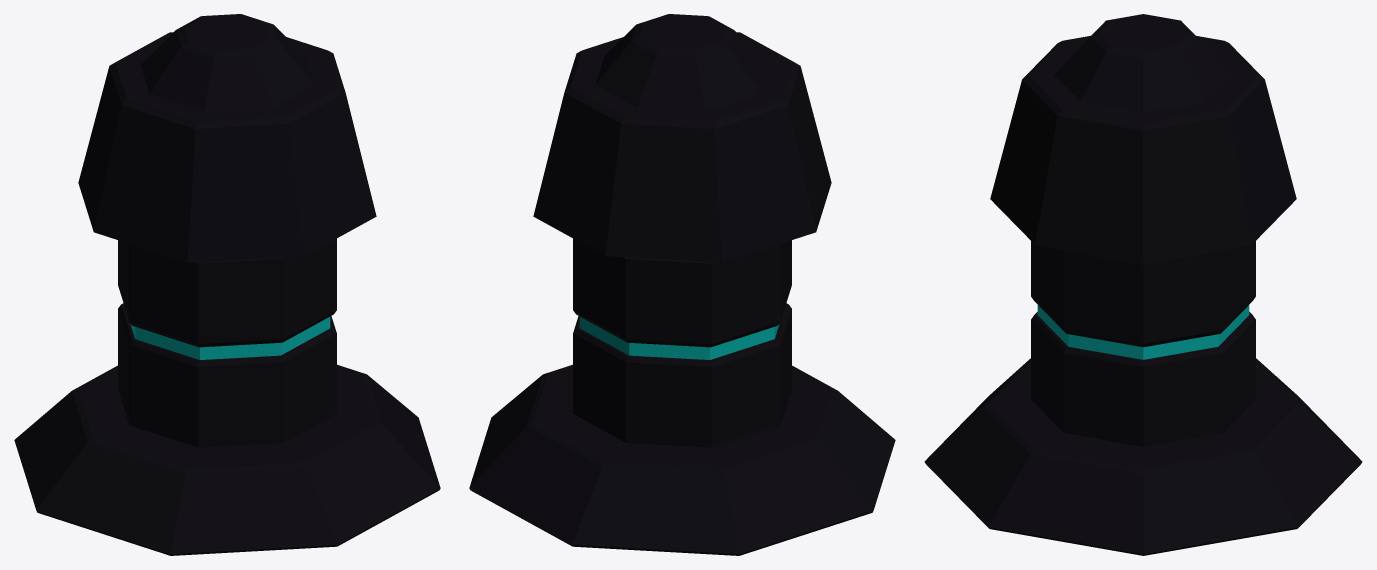
Rendered from SM_Borne_002.obj.
3 views of the same model, side by side, from view 1: azimuth 30°, elevation 25°; view 2: azimuth 150°, elevation 25°; view 3: azimuth 270°, elevation 25° (orthographic).
Parts seen in each view (by area): view 1: SM_Borne_02; view 2: SM_Borne_02; view 3: SM_Borne_02.
Part boxes in pixels (bbox=[...]): SM_Borne_02: bbox=[14, 14, 440, 555]; SM_Borne_02: bbox=[469, 14, 895, 555]; SM_Borne_02: bbox=[924, 14, 1362, 555].
Size of the model in its own units: 0.8277 by 0.8983 by 0.8277.
